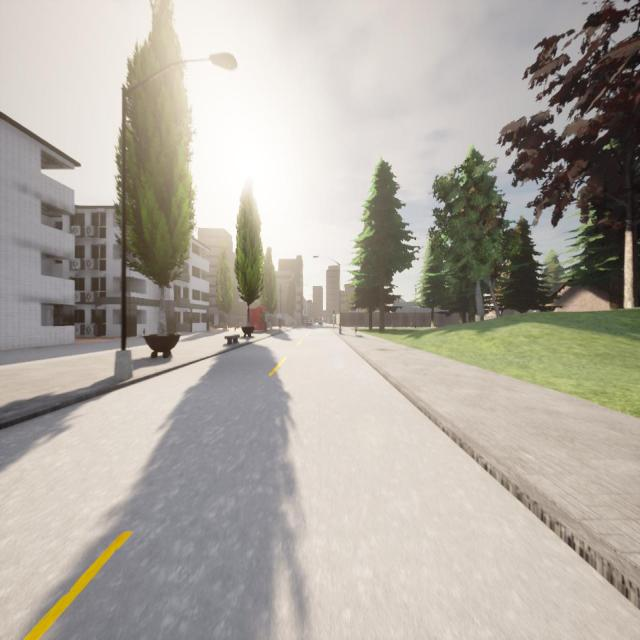traffic_light: (333, 311, 335, 316)
